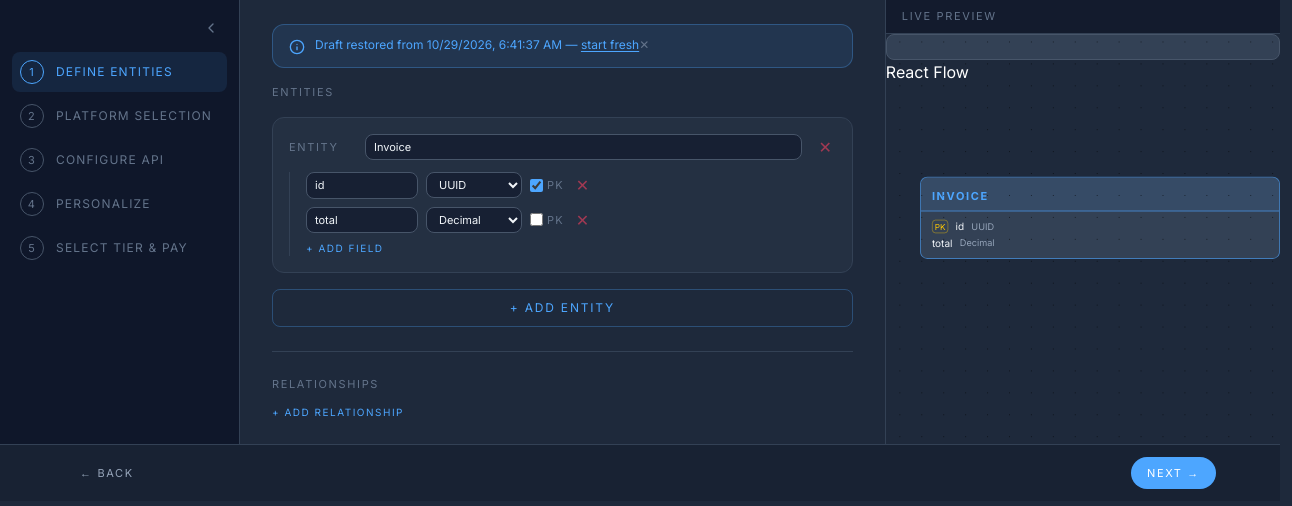
AdvancedModePage draft persistence › start fresh resets the wizard and removes the stored draft
Expected: the message "Draft restored from 10/29/2026, 6:41:37 AM — start fresh ✕" is shown, 272,24 -> 853,68
Click the button "start fresh": x=610, y=45 581,37 -> 639,53
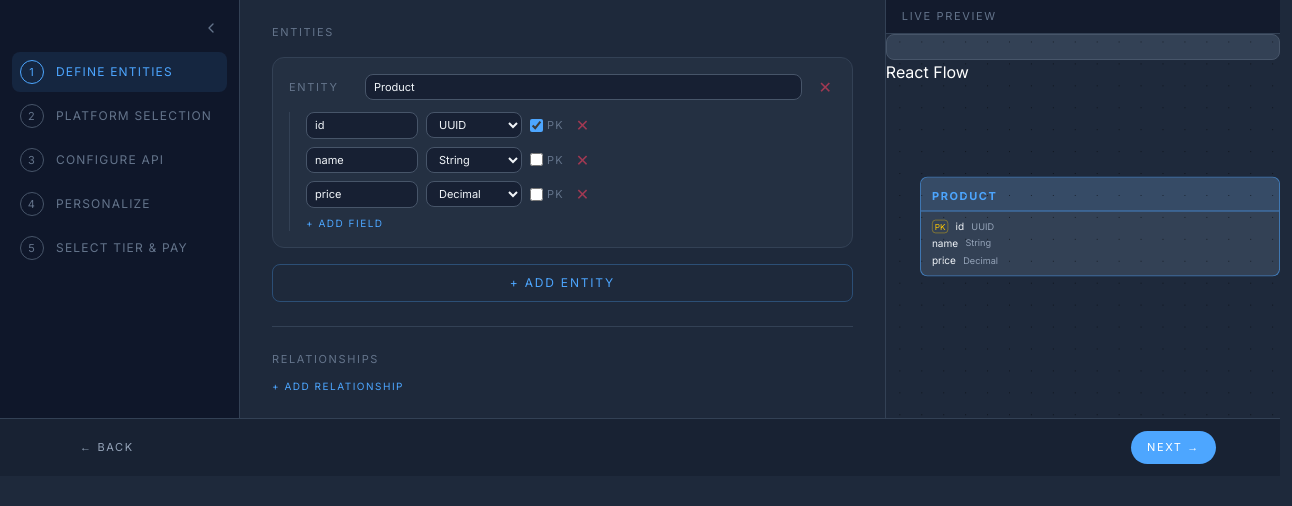
Expected: the 1st field showing "Product" is shown, 365,74 -> 802,100
